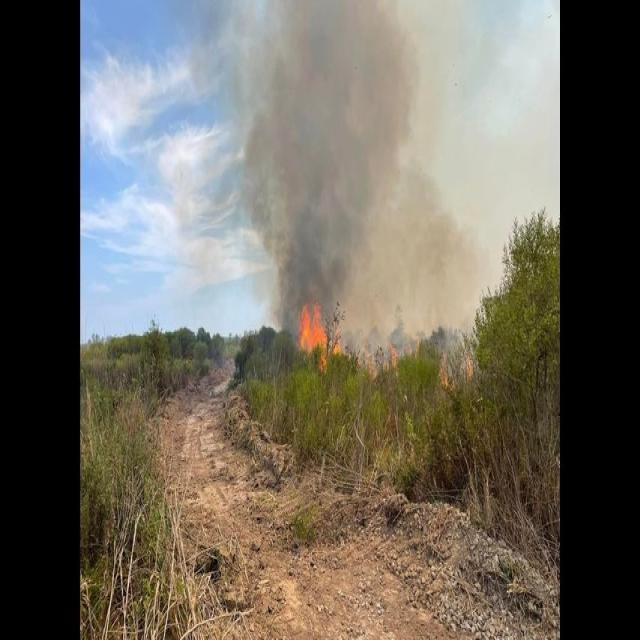Fire: (284, 291, 352, 361)
Smoke: (170, 0, 509, 305)
